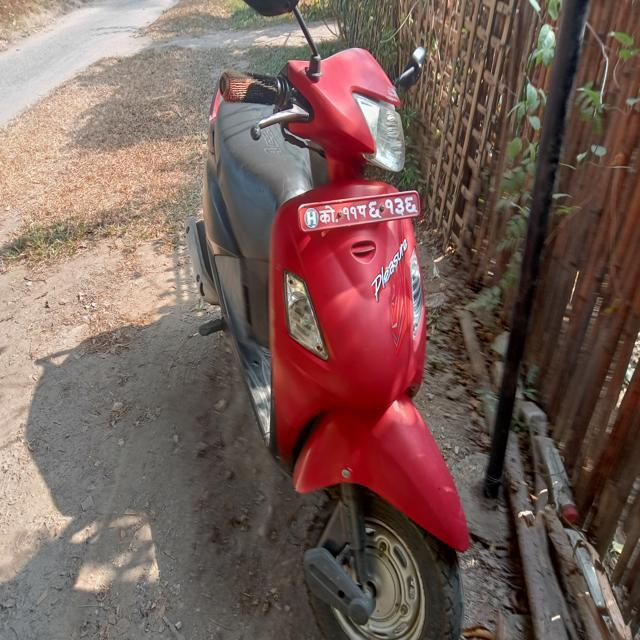license_plate: (263, 174, 432, 253)
